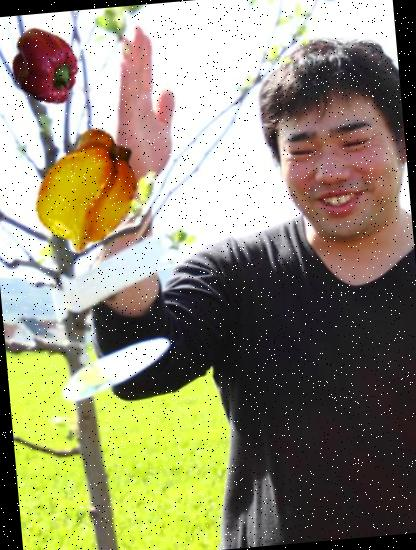Carambula: (19, 122, 159, 262)
Pepper: (4, 26, 86, 107)
